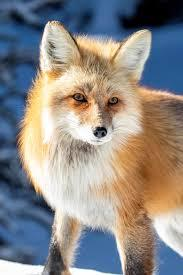fox: (7, 26, 183, 269)
